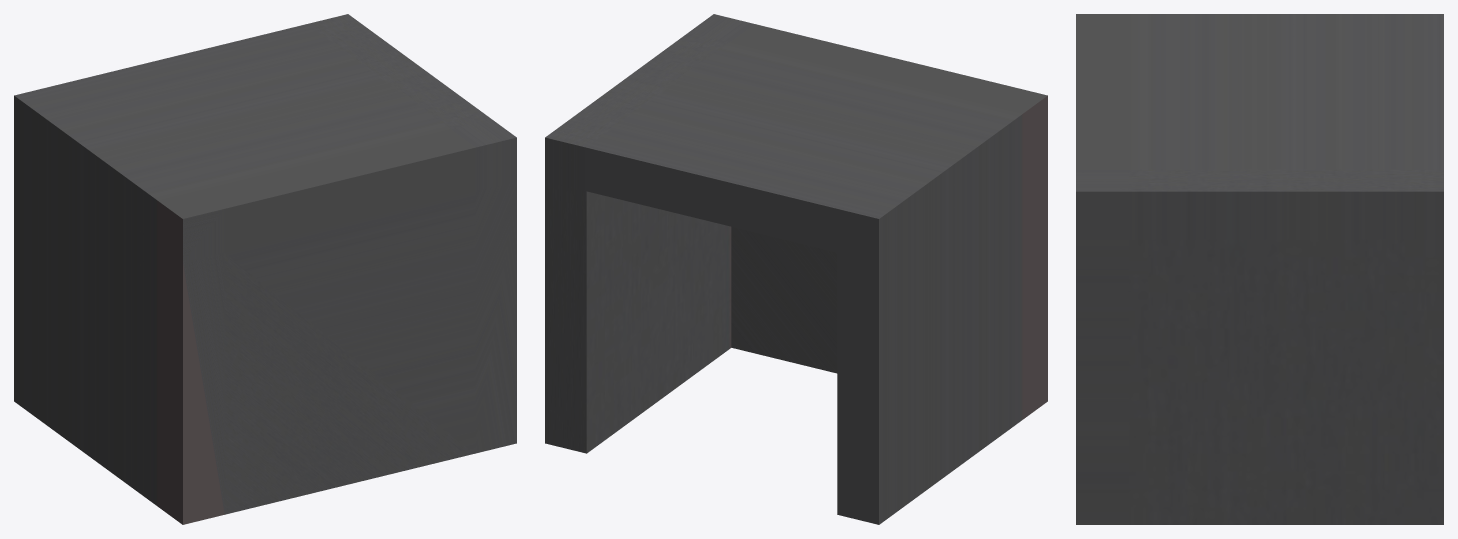
File: elevator.fbx
The picture shows the model from 3 angles, left to right: view 1: azimuth 30°, elevation 25°; view 2: azimuth 150°, elevation 25°; view 3: azimuth 270°, elevation 25°; orthographic projection. The views are drawn at different scales.
Parts seen in each view (by area): view 1: Cube.001; view 2: Cube.001; view 3: Cube.001.
Boxes of the visible parts, left/top/right/bottom form: Cube.001: left=14, top=14, right=516, bottom=524; Cube.001: left=545, top=14, right=1047, bottom=524; Cube.001: left=1076, top=14, right=1443, bottom=524.
Size of the model in its own units: 400 by 350 by 350.
